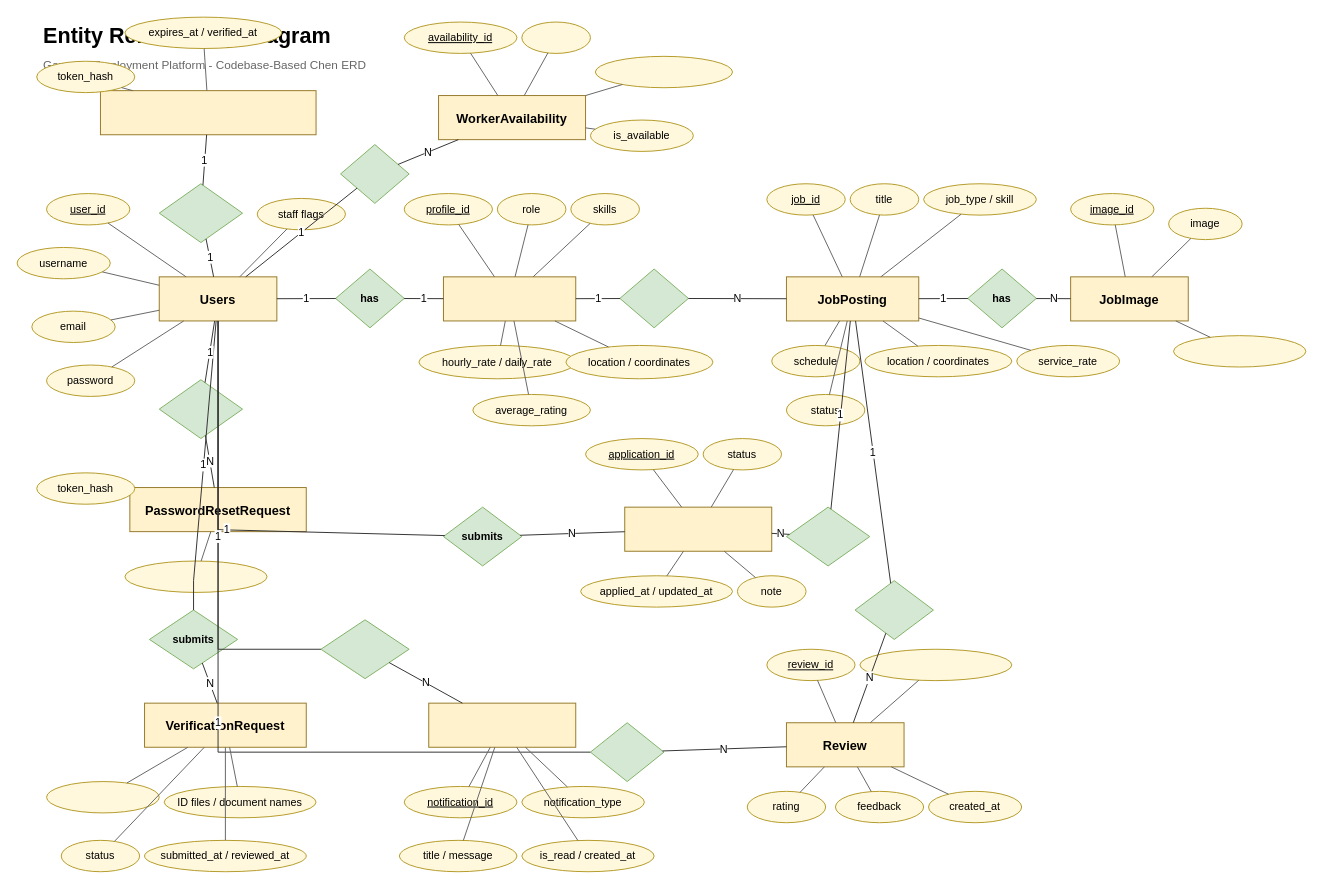
Image size: 1323x889. Some labels were removed from this diagram. Each missing label, with the box of its shape:
author_role / target_role: (859, 648, 1012, 681)
belongs to: (785, 506, 870, 566)
date: (521, 21, 590, 53)
expires_at / used_at: (124, 560, 267, 592)
for job: (854, 580, 933, 639)
JobApplication: (624, 506, 772, 551)
Notification: (428, 702, 576, 747)
posts: (619, 268, 688, 328)
receives: (320, 619, 409, 679)
requests: (158, 379, 243, 439)
sets: (340, 144, 409, 203)
SignupVerificationRequest: (99, 90, 316, 135)
start_time / end_time: (594, 55, 733, 88)
uploaded_at / order: (1173, 335, 1306, 367)
UserProfile: (442, 276, 576, 321)
verification_id: (46, 781, 159, 813)
verifies: (158, 183, 243, 243)
writes: (589, 722, 664, 782)
